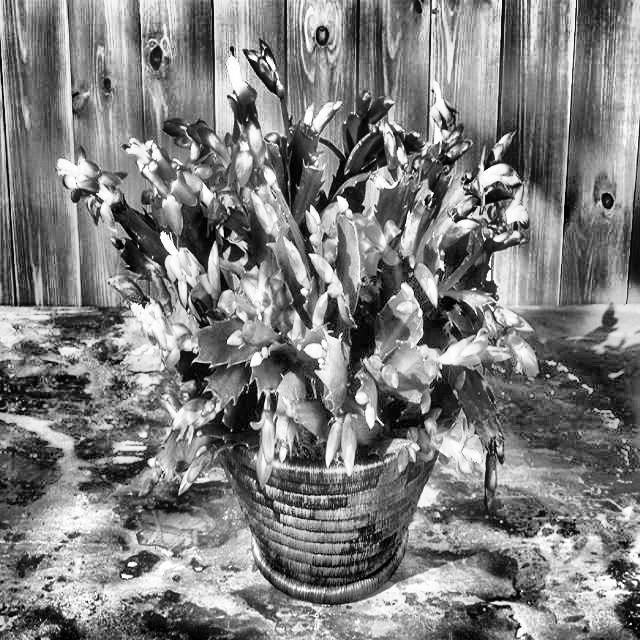plants: (164, 88, 448, 582)
